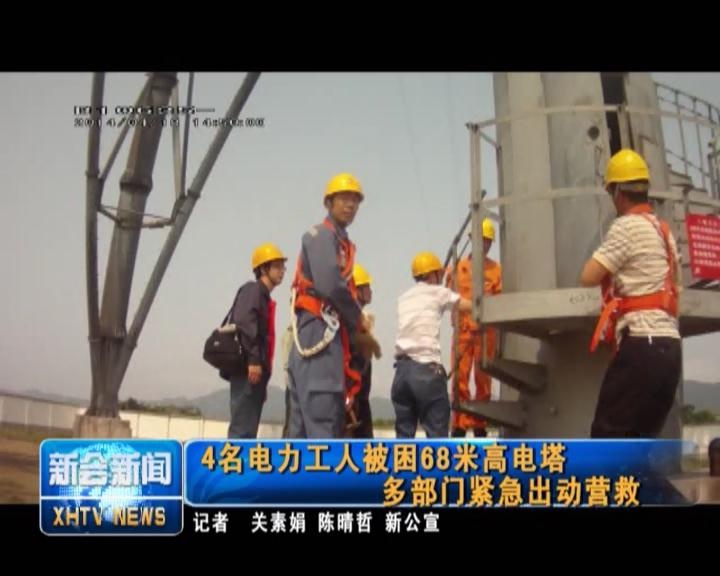yellow: (602, 146, 653, 212), (321, 172, 365, 229), (248, 242, 290, 290), (405, 250, 446, 287), (347, 262, 373, 306), (468, 217, 497, 256)
